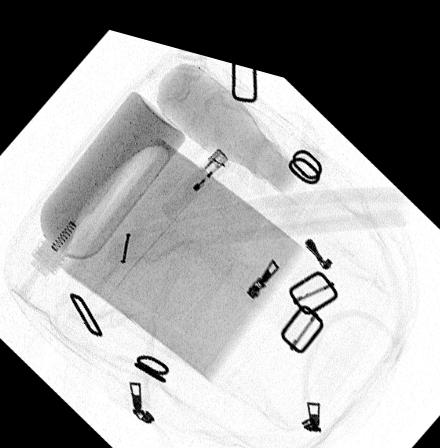Lighter: (159, 134, 229, 212)
